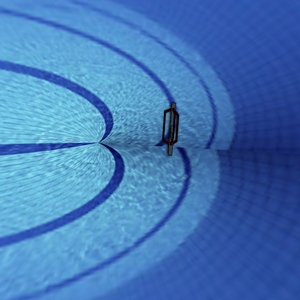submarine: (147, 89, 198, 163)
